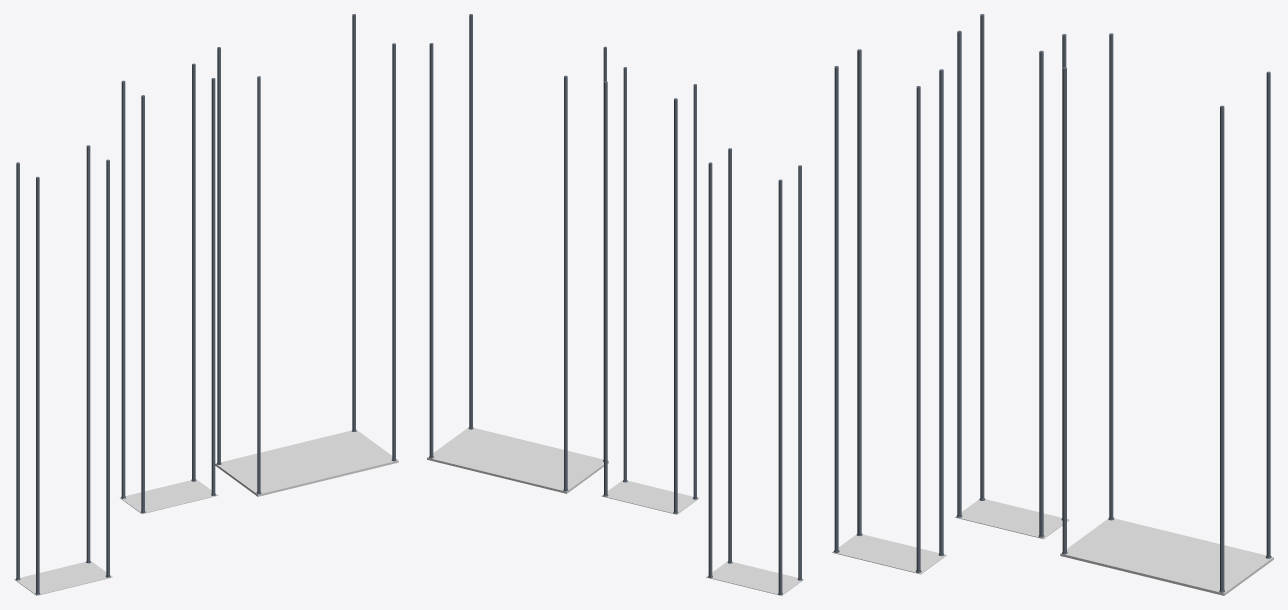
Rendered from level_Concept.fbx.
3 views of the same model, side by side, from view 1: azimuth 30°, elevation 25°; view 2: azimuth 150°, elevation 25°; view 3: azimuth 330°, elevation 25° (orthographic). The views are drawn at different scales.
Parts seen in each view (by area): view 1: Cube.003, Cylinder.003, Cylinder.005, Cylinder.006, Cube, Cylinder.001, Cylinder.008, Cylinder.010, Cylinder, Cylinder.002, Cylinder.004, Cylinder.007 (+3 smaller); view 2: Cube.003, Cylinder.001, Cylinder.003, Cylinder.011, Cylinder.009, Cylinder.002, Cylinder.004, Cylinder.005, Cylinder.007, Cylinder.010, Cylinder, Cylinder.006 (+3 smaller); view 3: Cube.003, Cylinder.004, Cylinder.006, Cylinder.008, Cylinder.009, Cylinder.011, Cylinder.010, Cylinder, Cylinder.002, Cylinder.001, Cylinder.003, Cylinder.005 (+3 smaller).
Boxes of the visible parts, box(x1,y1,x2,y2) form: Cube.003: box(215, 429, 398, 496); Cylinder.003: box(86, 145, 90, 563); Cylinder.005: box(121, 80, 125, 498); Cylinder.006: box(211, 78, 215, 495); Cube: box(14, 560, 112, 595); Cylinder.001: box(15, 162, 20, 580); Cylinder.008: box(256, 76, 261, 494); Cylinder.010: box(391, 43, 396, 461); Cylinder: box(35, 176, 40, 594); Cylinder.002: box(105, 159, 110, 577); Cylinder.004: box(140, 95, 145, 513); Cylinder.007: box(191, 63, 196, 481); Cube.003: box(427, 427, 608, 493); Cylinder.001: box(778, 179, 782, 595); Cylinder.003: box(708, 162, 712, 578); Cylinder.011: box(429, 43, 433, 458); Cylinder.009: box(563, 75, 568, 491); Cylinder.002: box(727, 148, 732, 563); Cylinder.004: box(692, 84, 697, 499); Cylinder.005: box(673, 98, 678, 513); Cylinder.007: box(603, 81, 608, 496); Cylinder.010: box(468, 14, 473, 429); Cylinder: box(797, 165, 802, 580); Cylinder.006: box(623, 67, 627, 482); Cube.003: box(1060, 518, 1273, 595); Cylinder.004: box(956, 30, 962, 517); Cylinder.006: box(1038, 50, 1044, 537); Cylinder.008: box(1062, 67, 1067, 554); Cylinder.009: box(1108, 33, 1114, 520); Cylinder.011: box(1265, 71, 1271, 558); Cylinder.010: box(1219, 105, 1224, 592); Cylinder: box(833, 66, 839, 552); Cylinder.002: box(915, 86, 921, 572); Cylinder.001: box(856, 49, 862, 535); Cylinder.003: box(938, 69, 944, 555); Cylinder.005: box(979, 14, 985, 500).
Size of the model in its own units: 21031 by 27372 by 4436.
